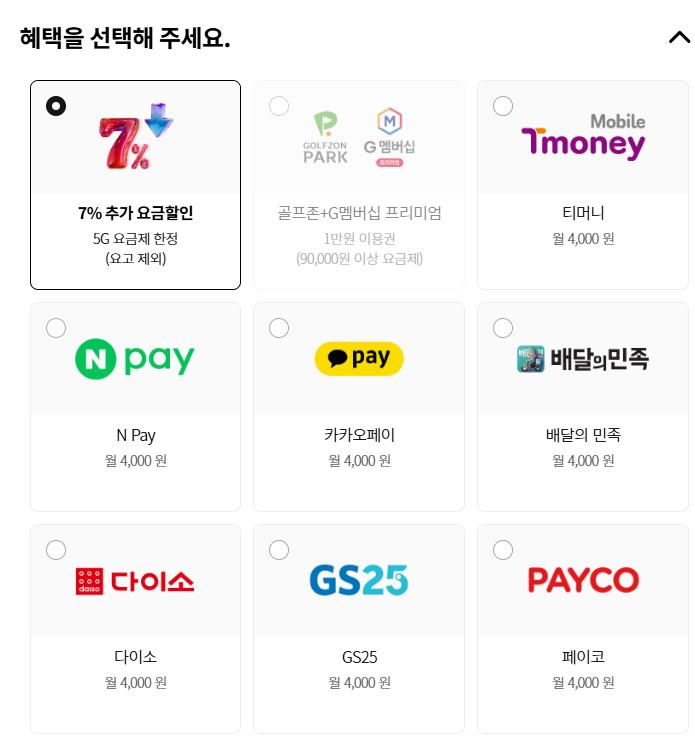button: (663, 27, 691, 47)
checkbox: (27, 79, 242, 289), (248, 79, 463, 289), (480, 78, 695, 288), (31, 297, 246, 507), (253, 301, 468, 511), (480, 300, 695, 510), (26, 525, 241, 735), (254, 523, 469, 733), (480, 524, 695, 734)
